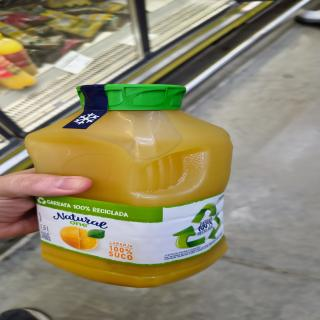Juice: (19, 81, 239, 291)
